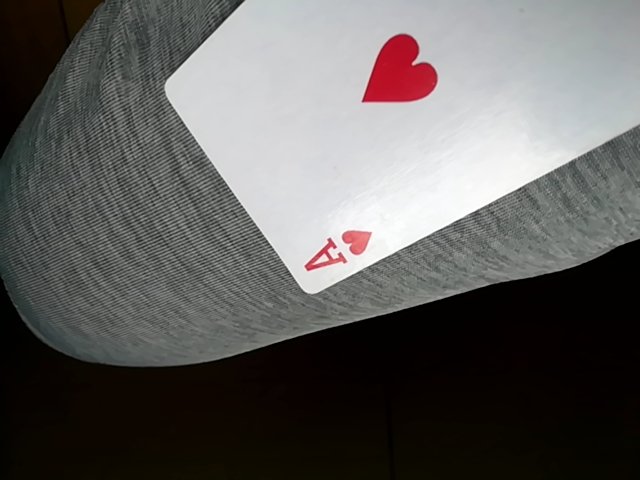hx a: (145, 0, 639, 296)
